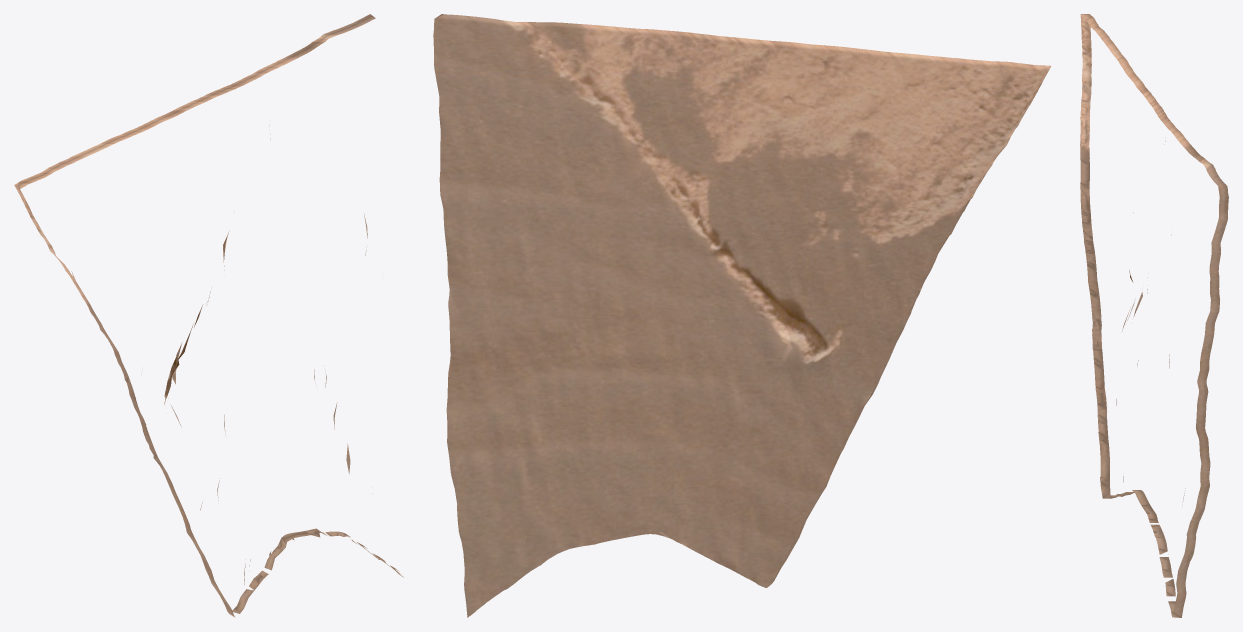
3 views of the same model, side by side, from view 1: azimuth 30°, elevation 25°; view 2: azimuth 150°, elevation 25°; view 3: azimuth 270°, elevation 25° (orthographic). The views are drawn at different scales.
Size of the model in its own units: 0.4414 by 0.5143 by 0.1609.
1 material, 1 textured.
